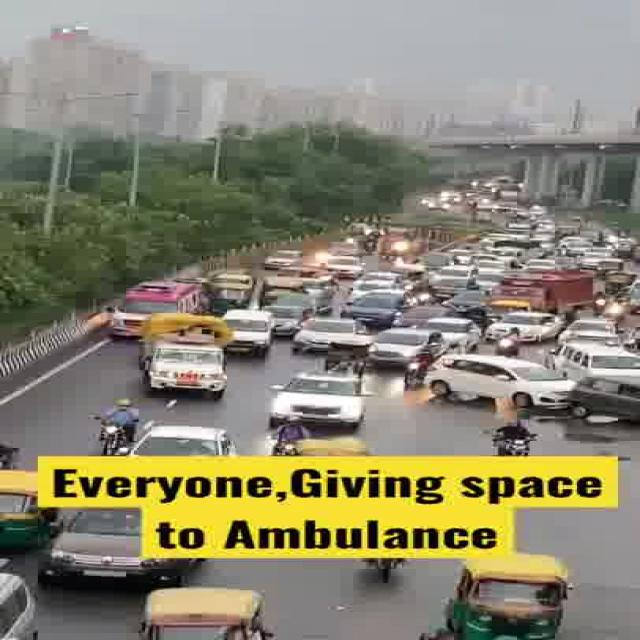ambulance: (106, 279, 204, 314)
